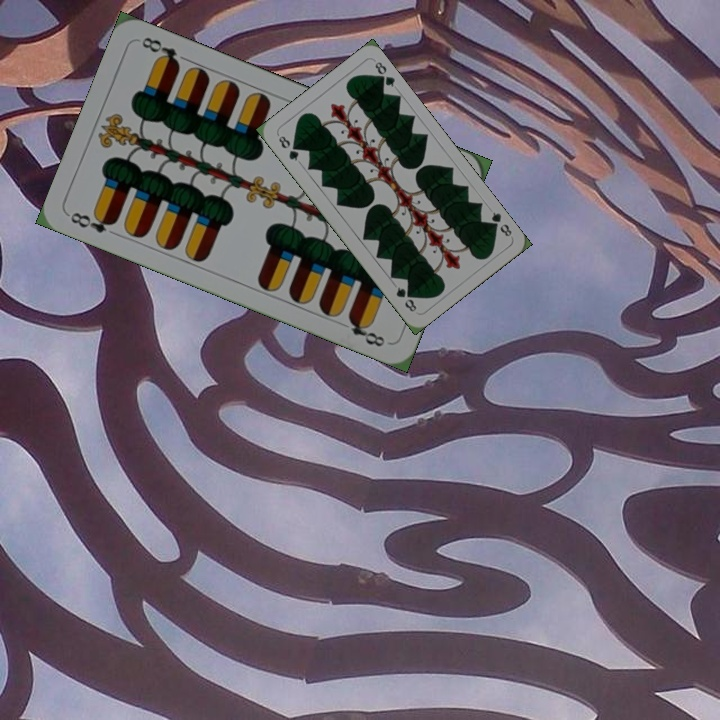E8: (66, 208, 120, 236)
G8: (274, 130, 301, 164), (485, 208, 514, 239)
